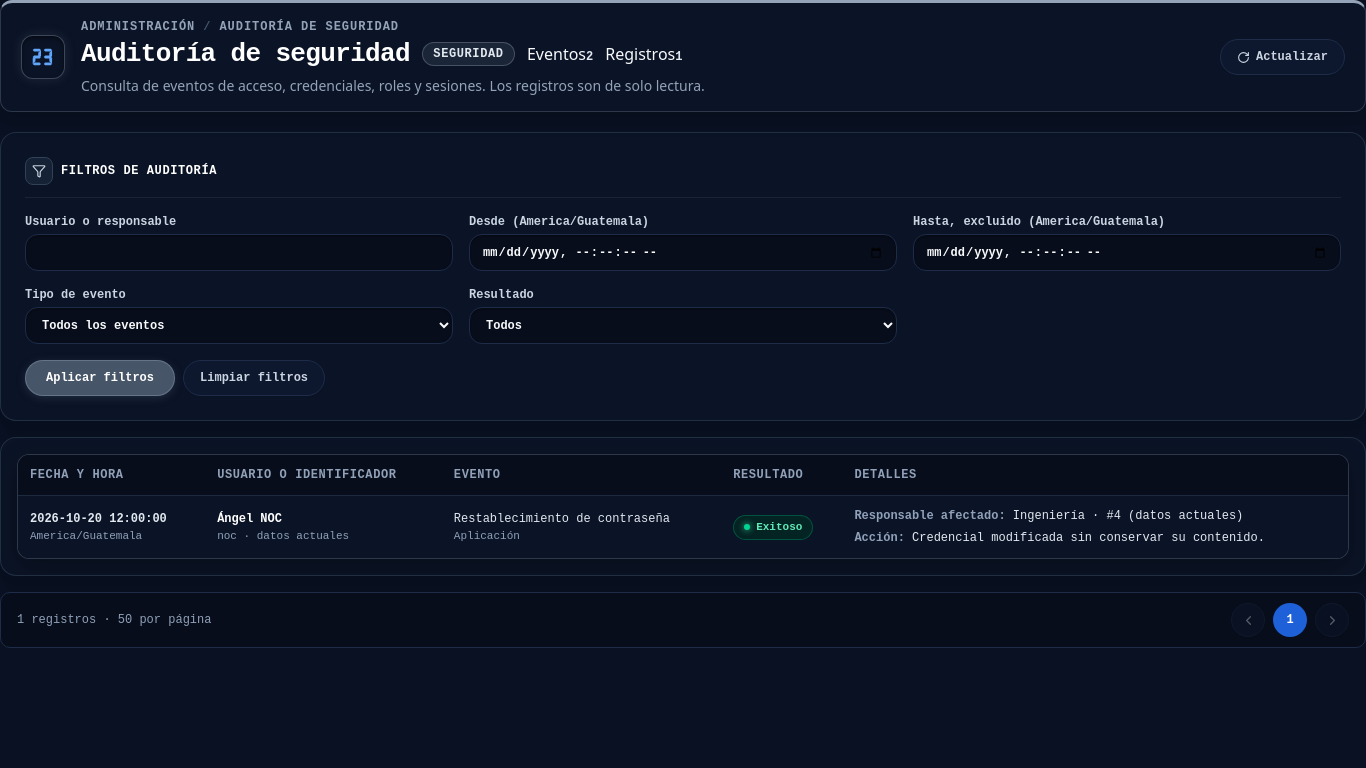
Test case: rechaza períodos inválidos antes de consultar y permite limpiar borradores de filtro
Expected: the text "Ángel NOC" is shown, 217,512 -> 282,526
Type "2026-10-21T12:00" into the field labelled "Desde (America/Guatemala)" at (683, 253), box 469,234 -> 897,271
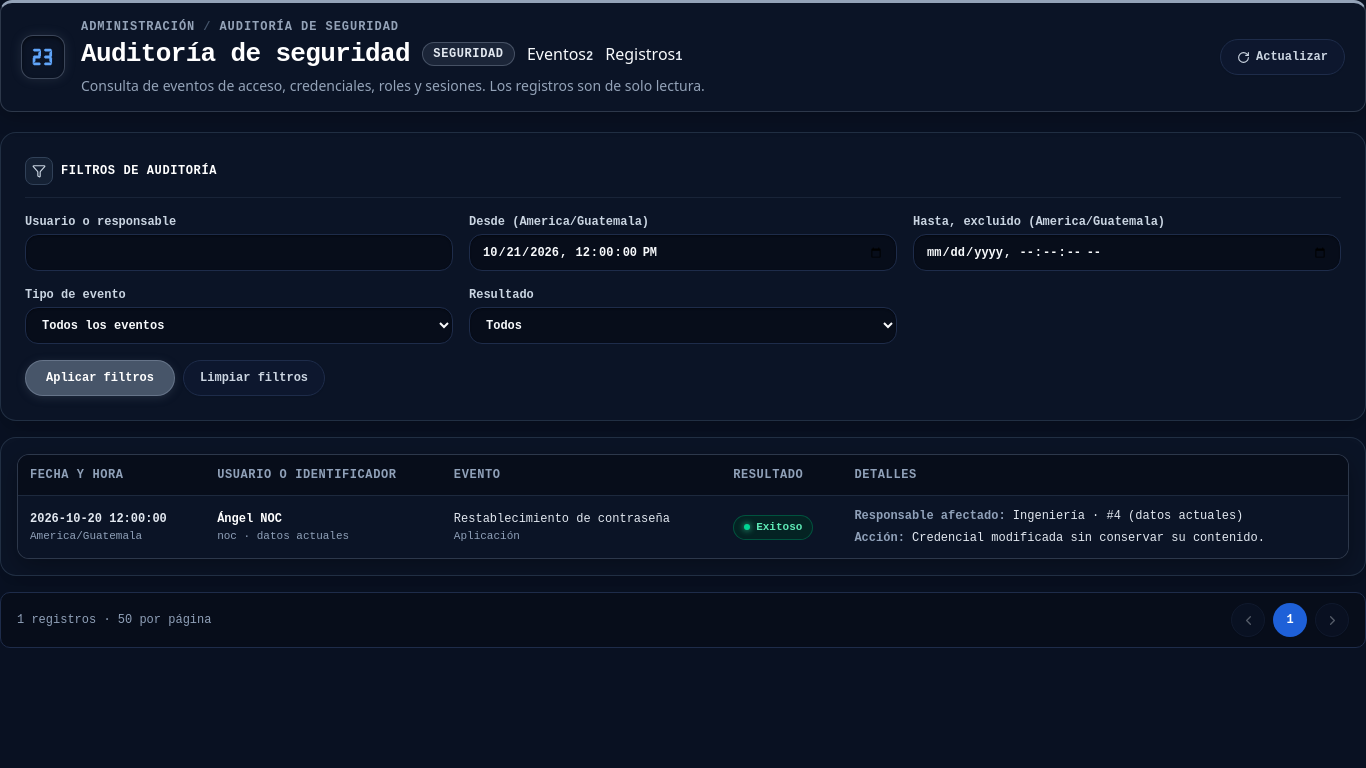
Type "2026-10-20T12:00" into the field labelled "Hasta, excluido (America/Guatemala)" at (1127, 253), box 913,234 -> 1341,271
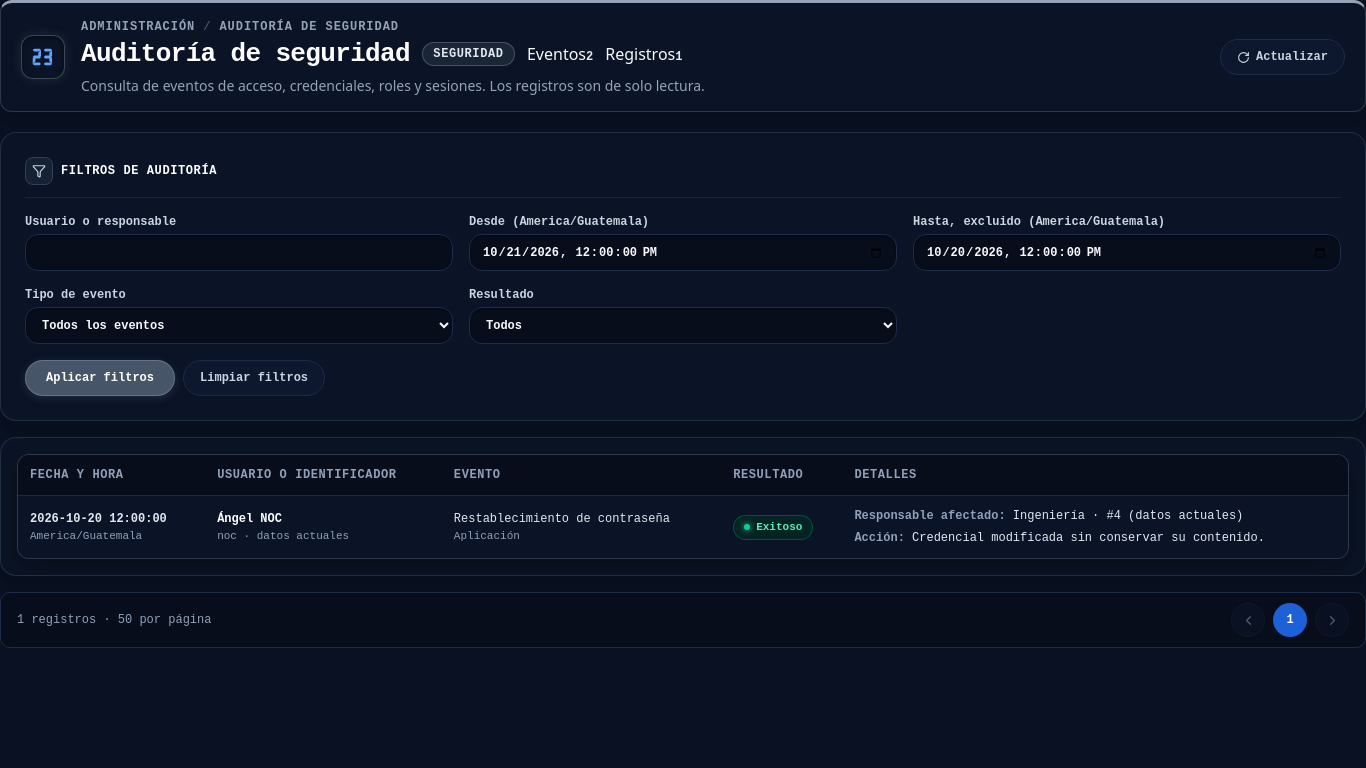
Click the button "Aplicar filtros" at (100, 378), box 25,360 -> 175,396
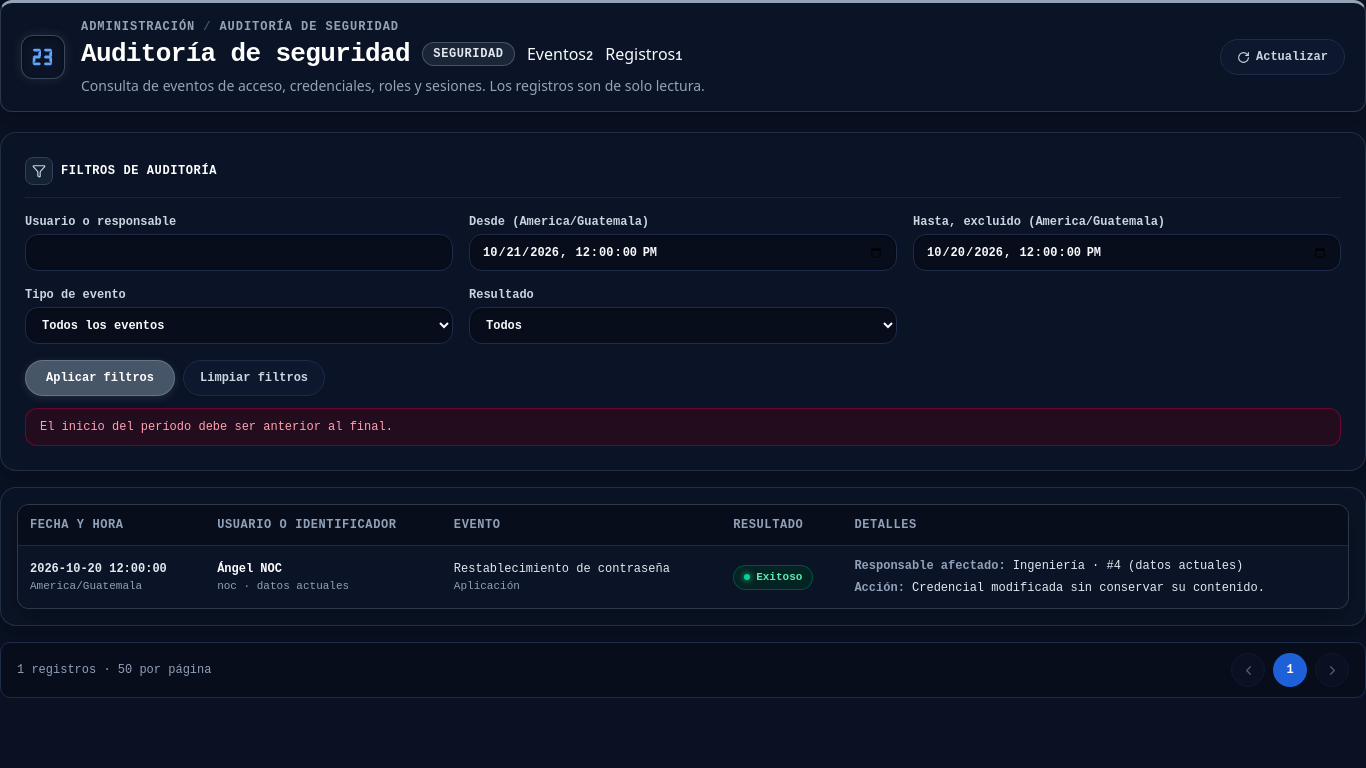
Expected: the message reads "El inicio del período debe ser anterior al final.", 40,420 -> 393,434
Click the button "Limpiar filtros" at (254, 378), box 183,360 -> 325,396
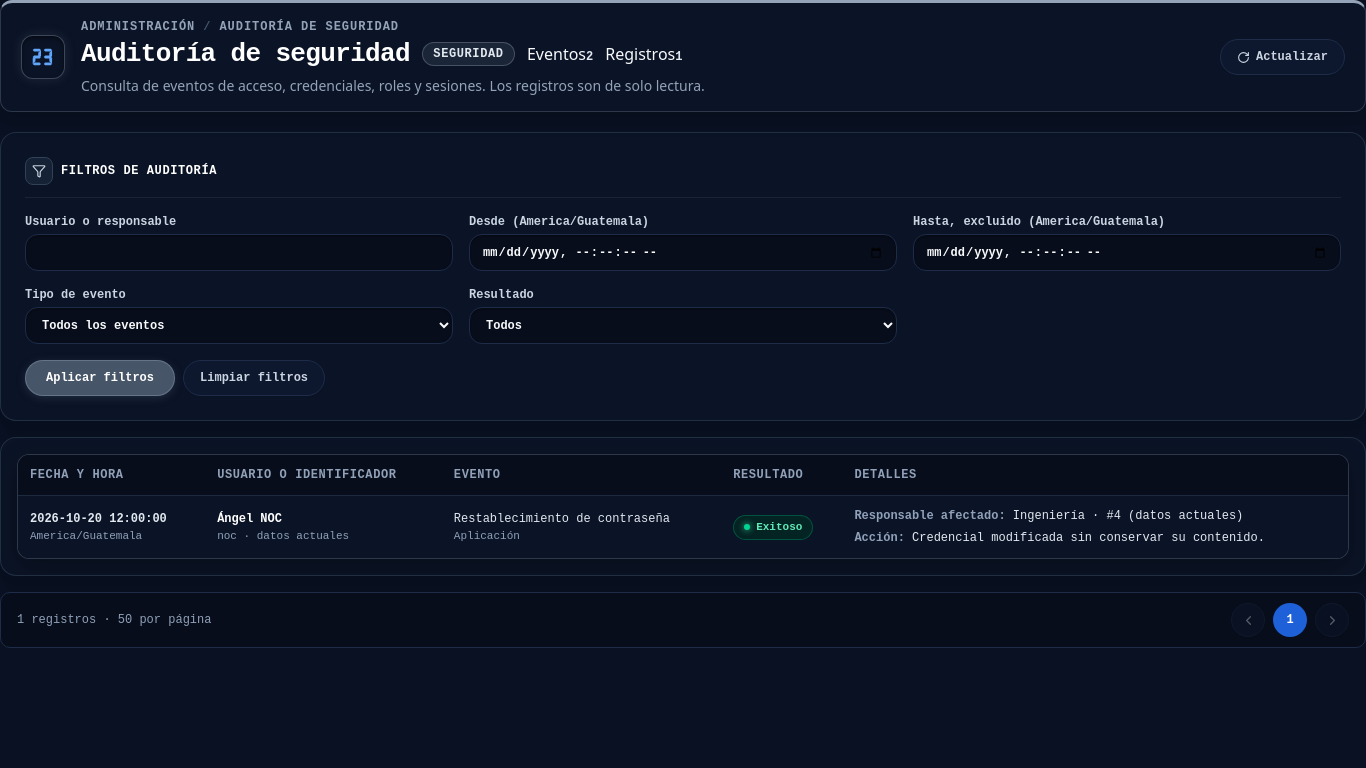
Expected: the field labelled "Desde (America/Guatemala)" is empty, 469,234 -> 897,271
Expected: the field labelled "Hasta, excluido (America/Guatemala)" is empty, 913,234 -> 1341,271
Expected: the message "El inicio del período debe ser anterior al final." is gone
